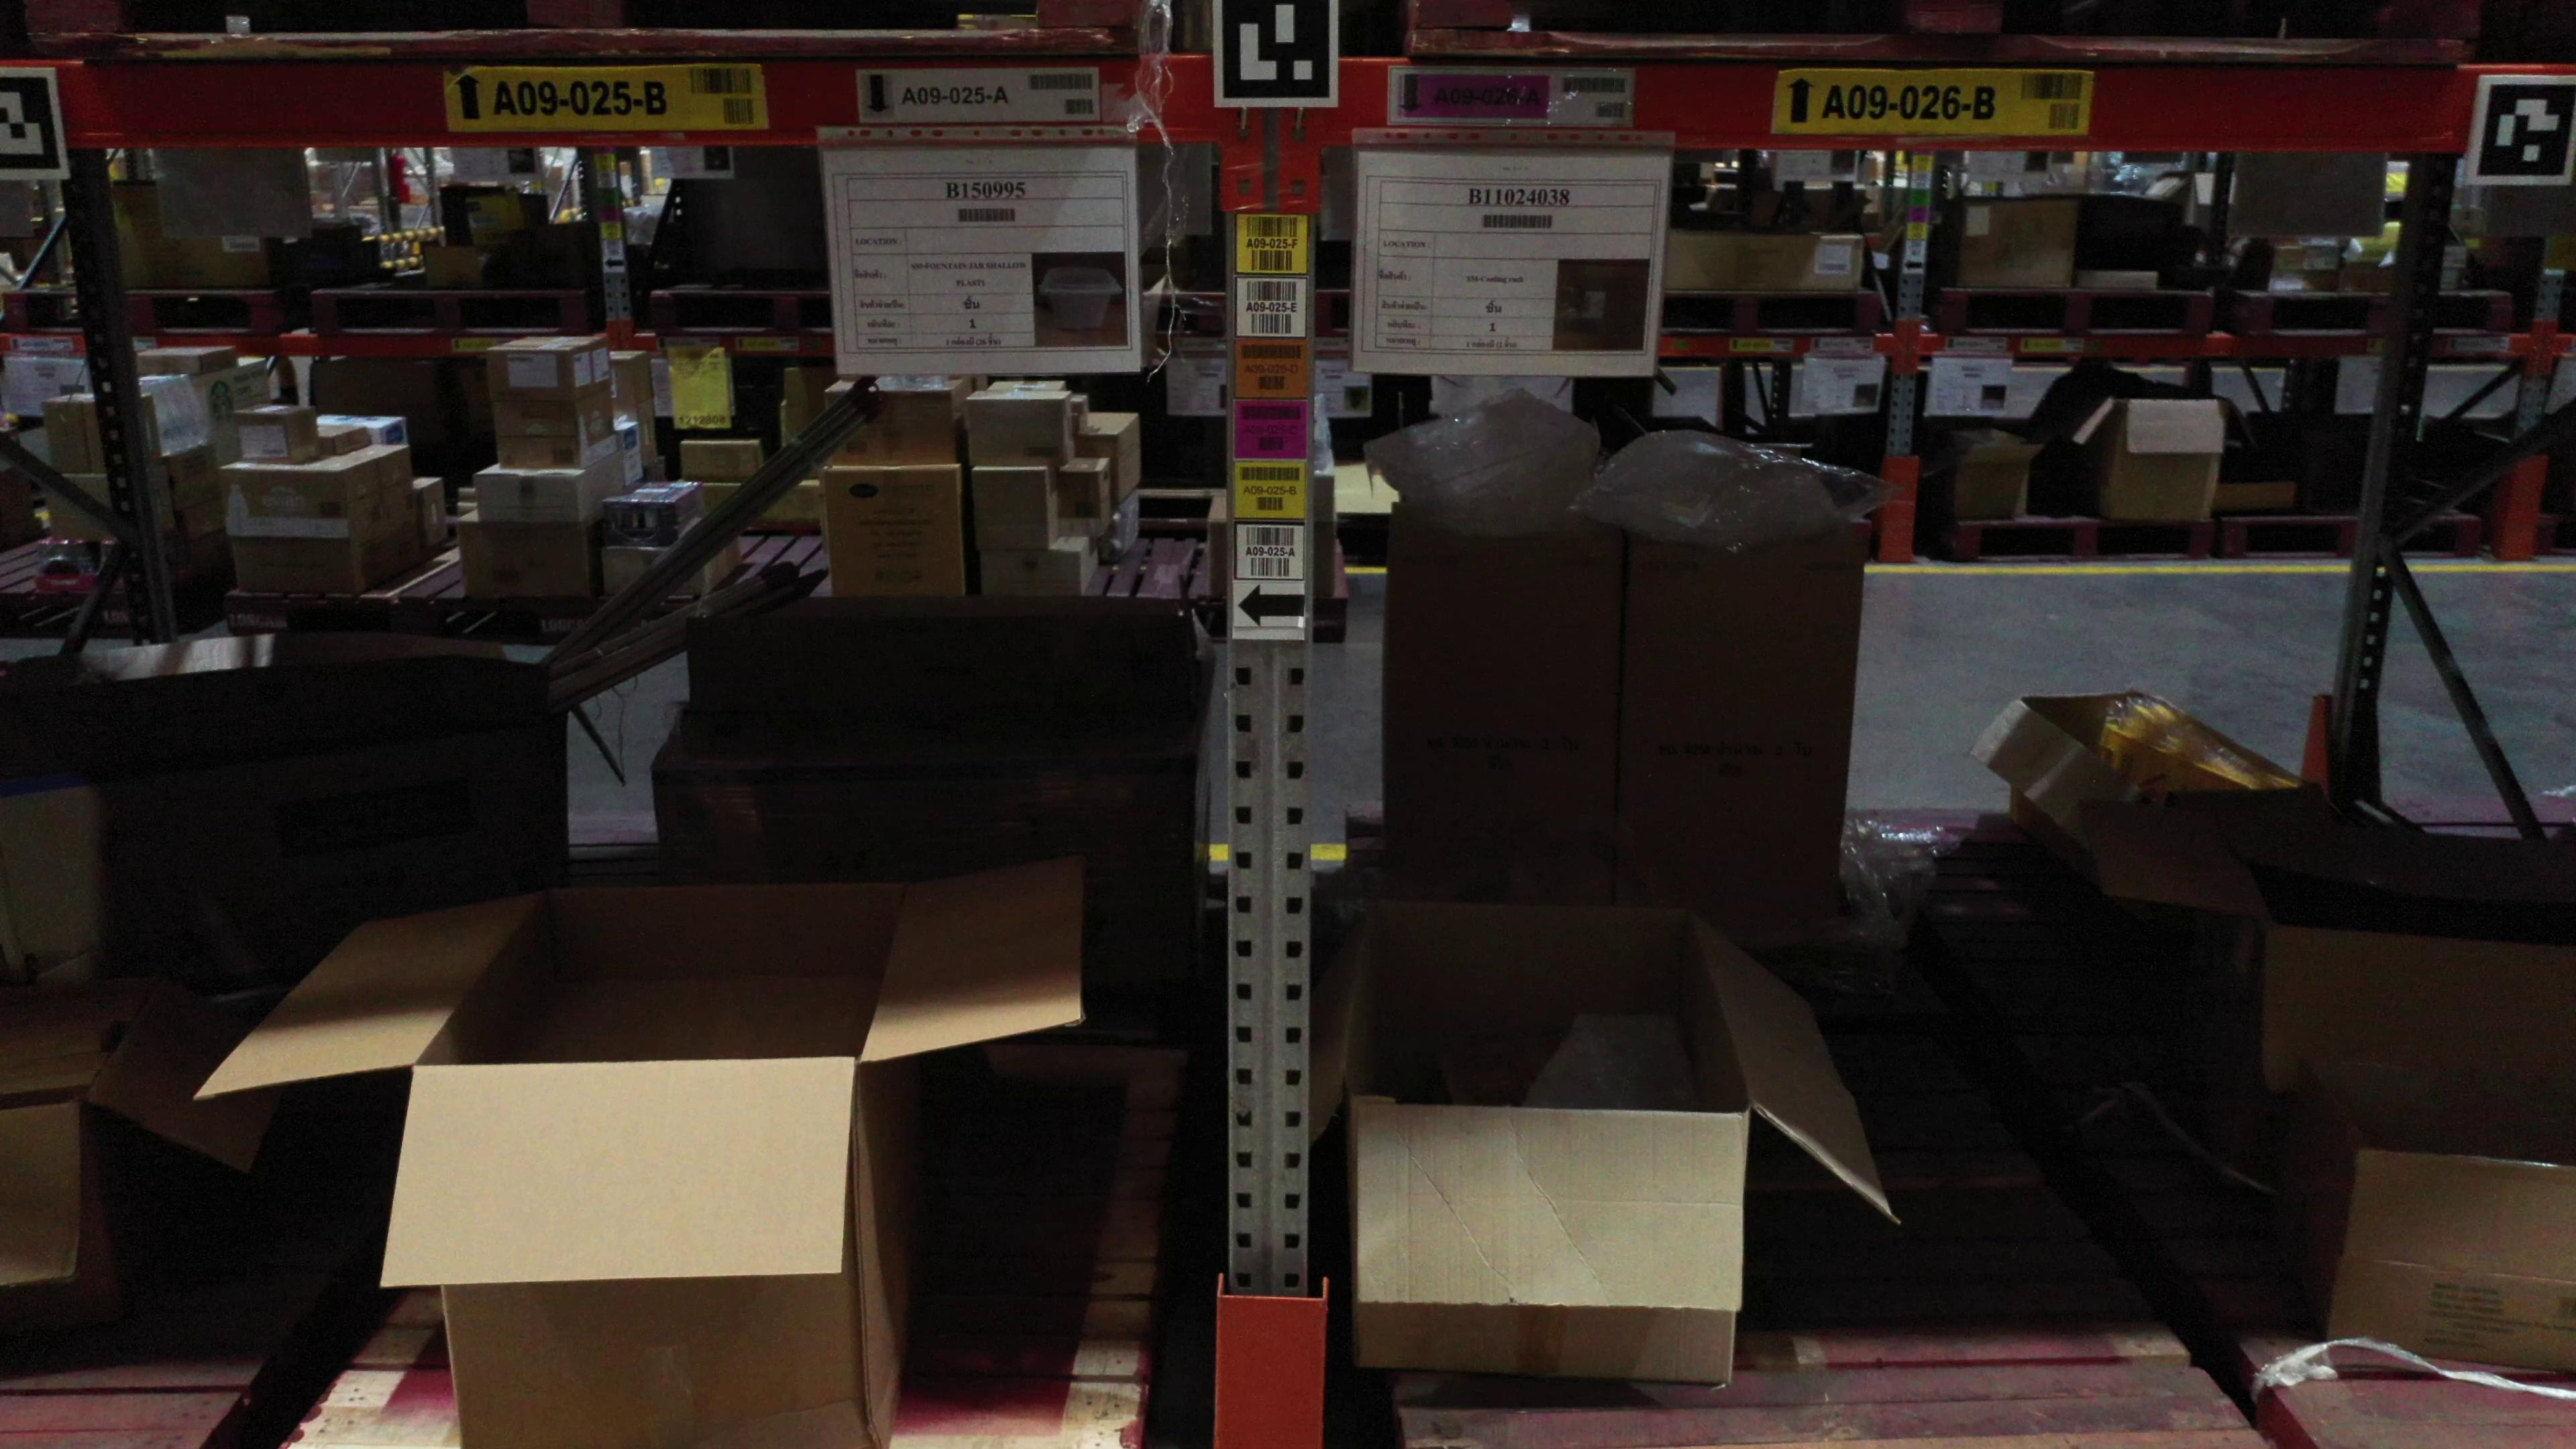-: (412, 1056, 874, 1449), (1355, 1102, 1748, 1392), (2323, 1253, 2576, 1380)
box: (1610, 536, 1867, 897), (1382, 533, 1617, 892)
